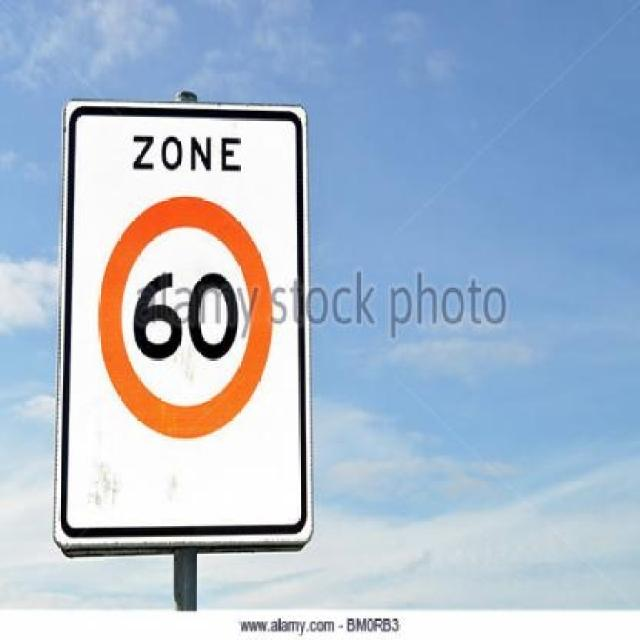forb_speed_over_60: (96, 193, 273, 439)
